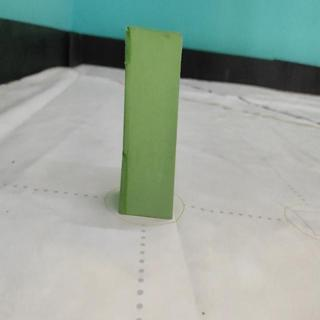greenbox: (117, 23, 185, 220)
